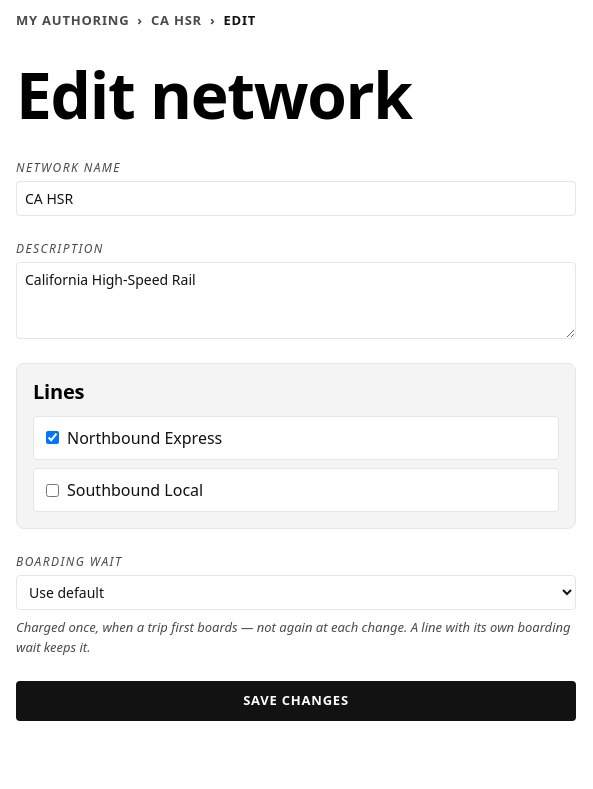
Test case: ScenarioBuilderView editing an existing scenario › interchange pairs and the boarding wait › offers the four policies and the default, and asks for seconds only for fixed
Select "Fixed" in the dropdown with test id "boarding-wait-policy" at point(296, 593), box [16,575,576,610]
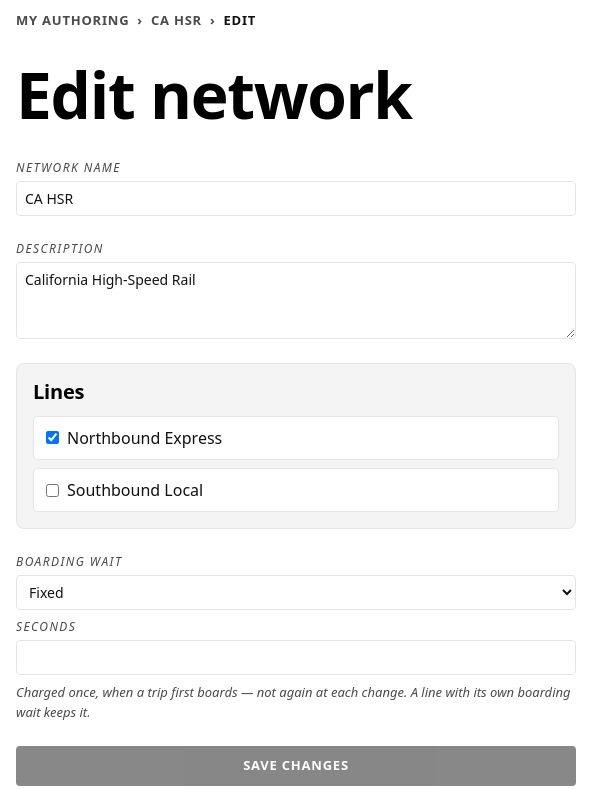
Now the number field with test id "boarding-wait-secs" is shown, box [16,640,576,675]
